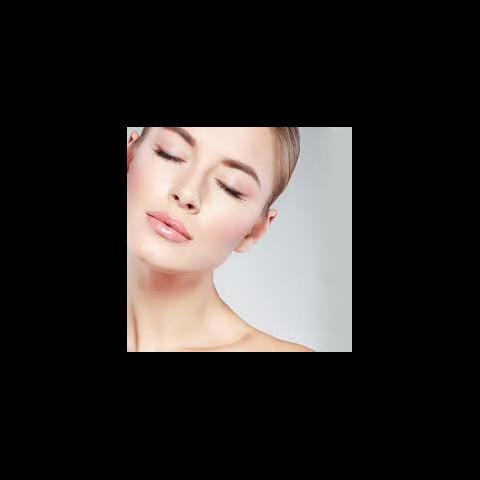closed: (142, 128, 268, 211)
